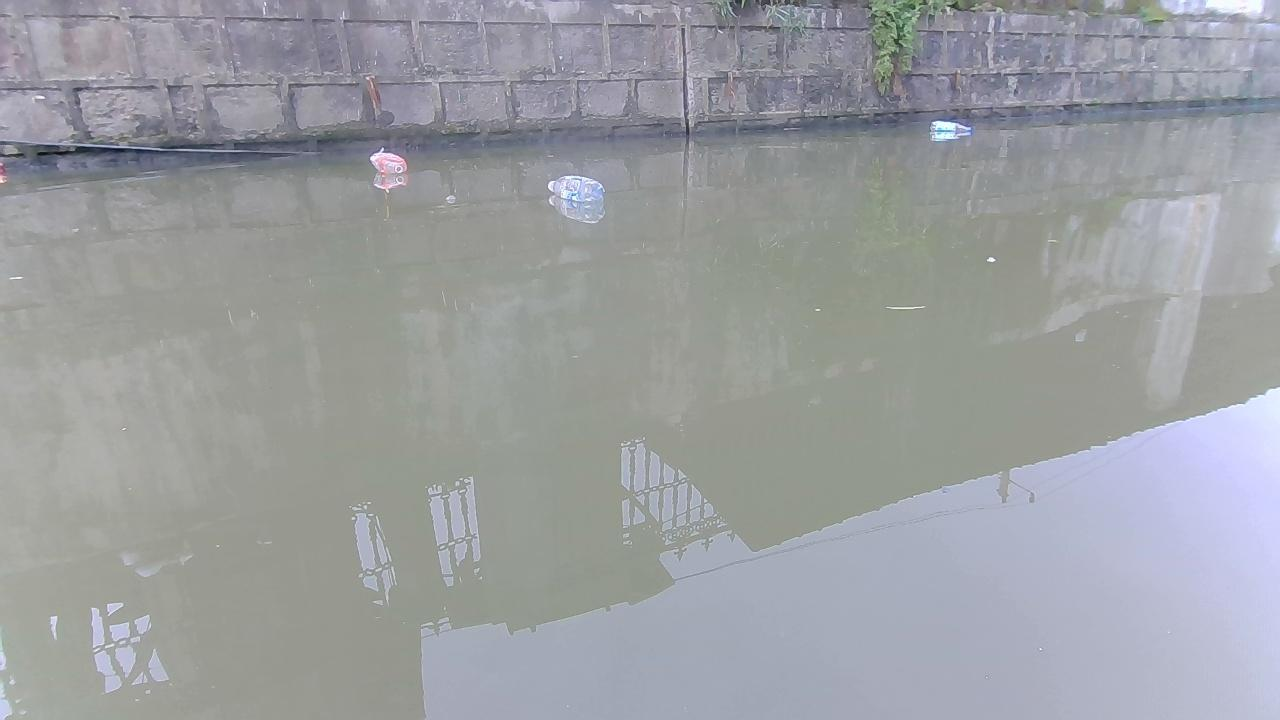bottle: (546, 176, 608, 206), (369, 150, 411, 172), (929, 117, 971, 139)
